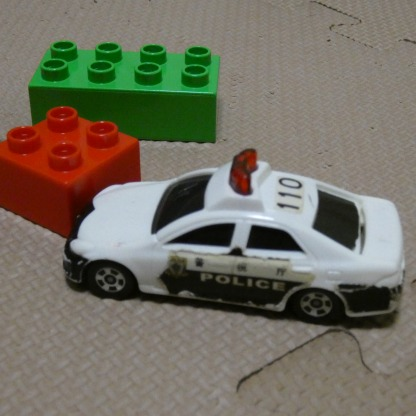car: (63, 150, 405, 325)
